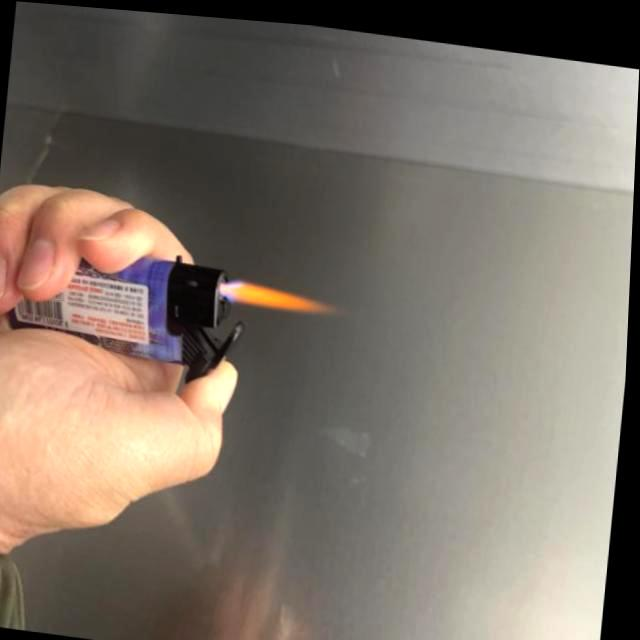fire: (224, 272, 340, 308)
